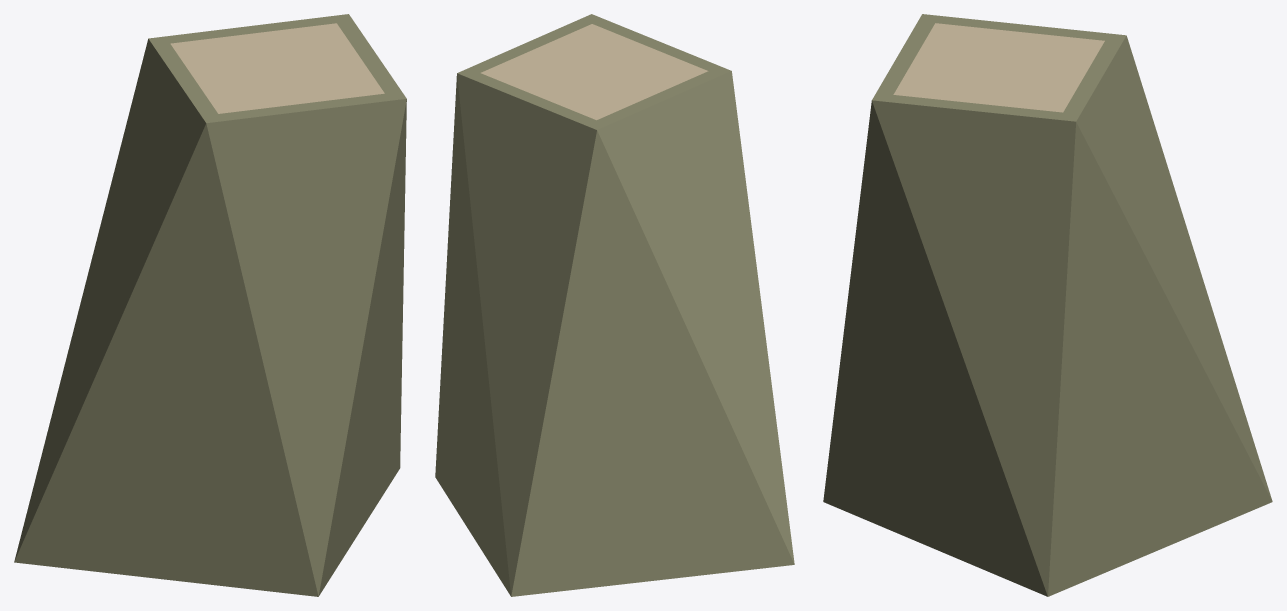
File: Dead_Stump_02.fbx
3 views of the same model, side by side, from view 1: azimuth 30°, elevation 25°; view 2: azimuth 150°, elevation 25°; view 3: azimuth 270°, elevation 25° (orthographic). The views are drawn at different scales.
Visible parts, largest first — view 1: Dead_Stump_02; view 2: Dead_Stump_02; view 3: Dead_Stump_02.
Part boxes in pixels (x1,y1,x2,y2): Dead_Stump_02: [14, 14, 406, 596]; Dead_Stump_02: [435, 14, 794, 596]; Dead_Stump_02: [823, 14, 1272, 596].
Bounding box in the file's own units: 98.01 × 110 × 98.01.
